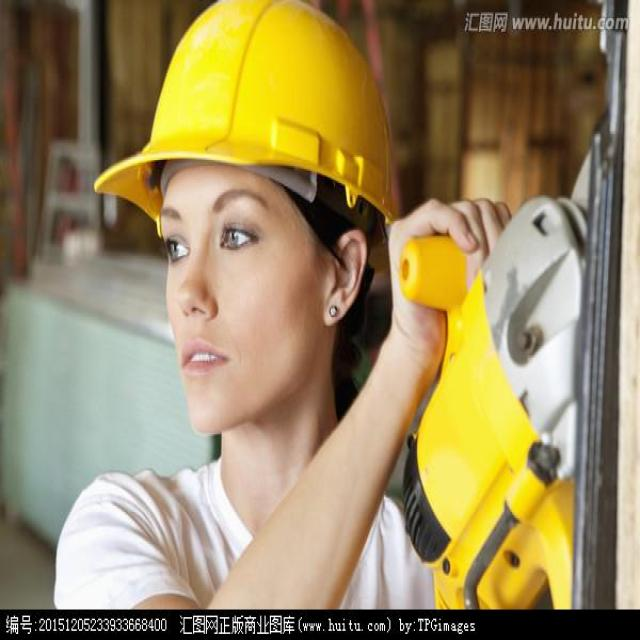helmet: (89, 0, 396, 440)
